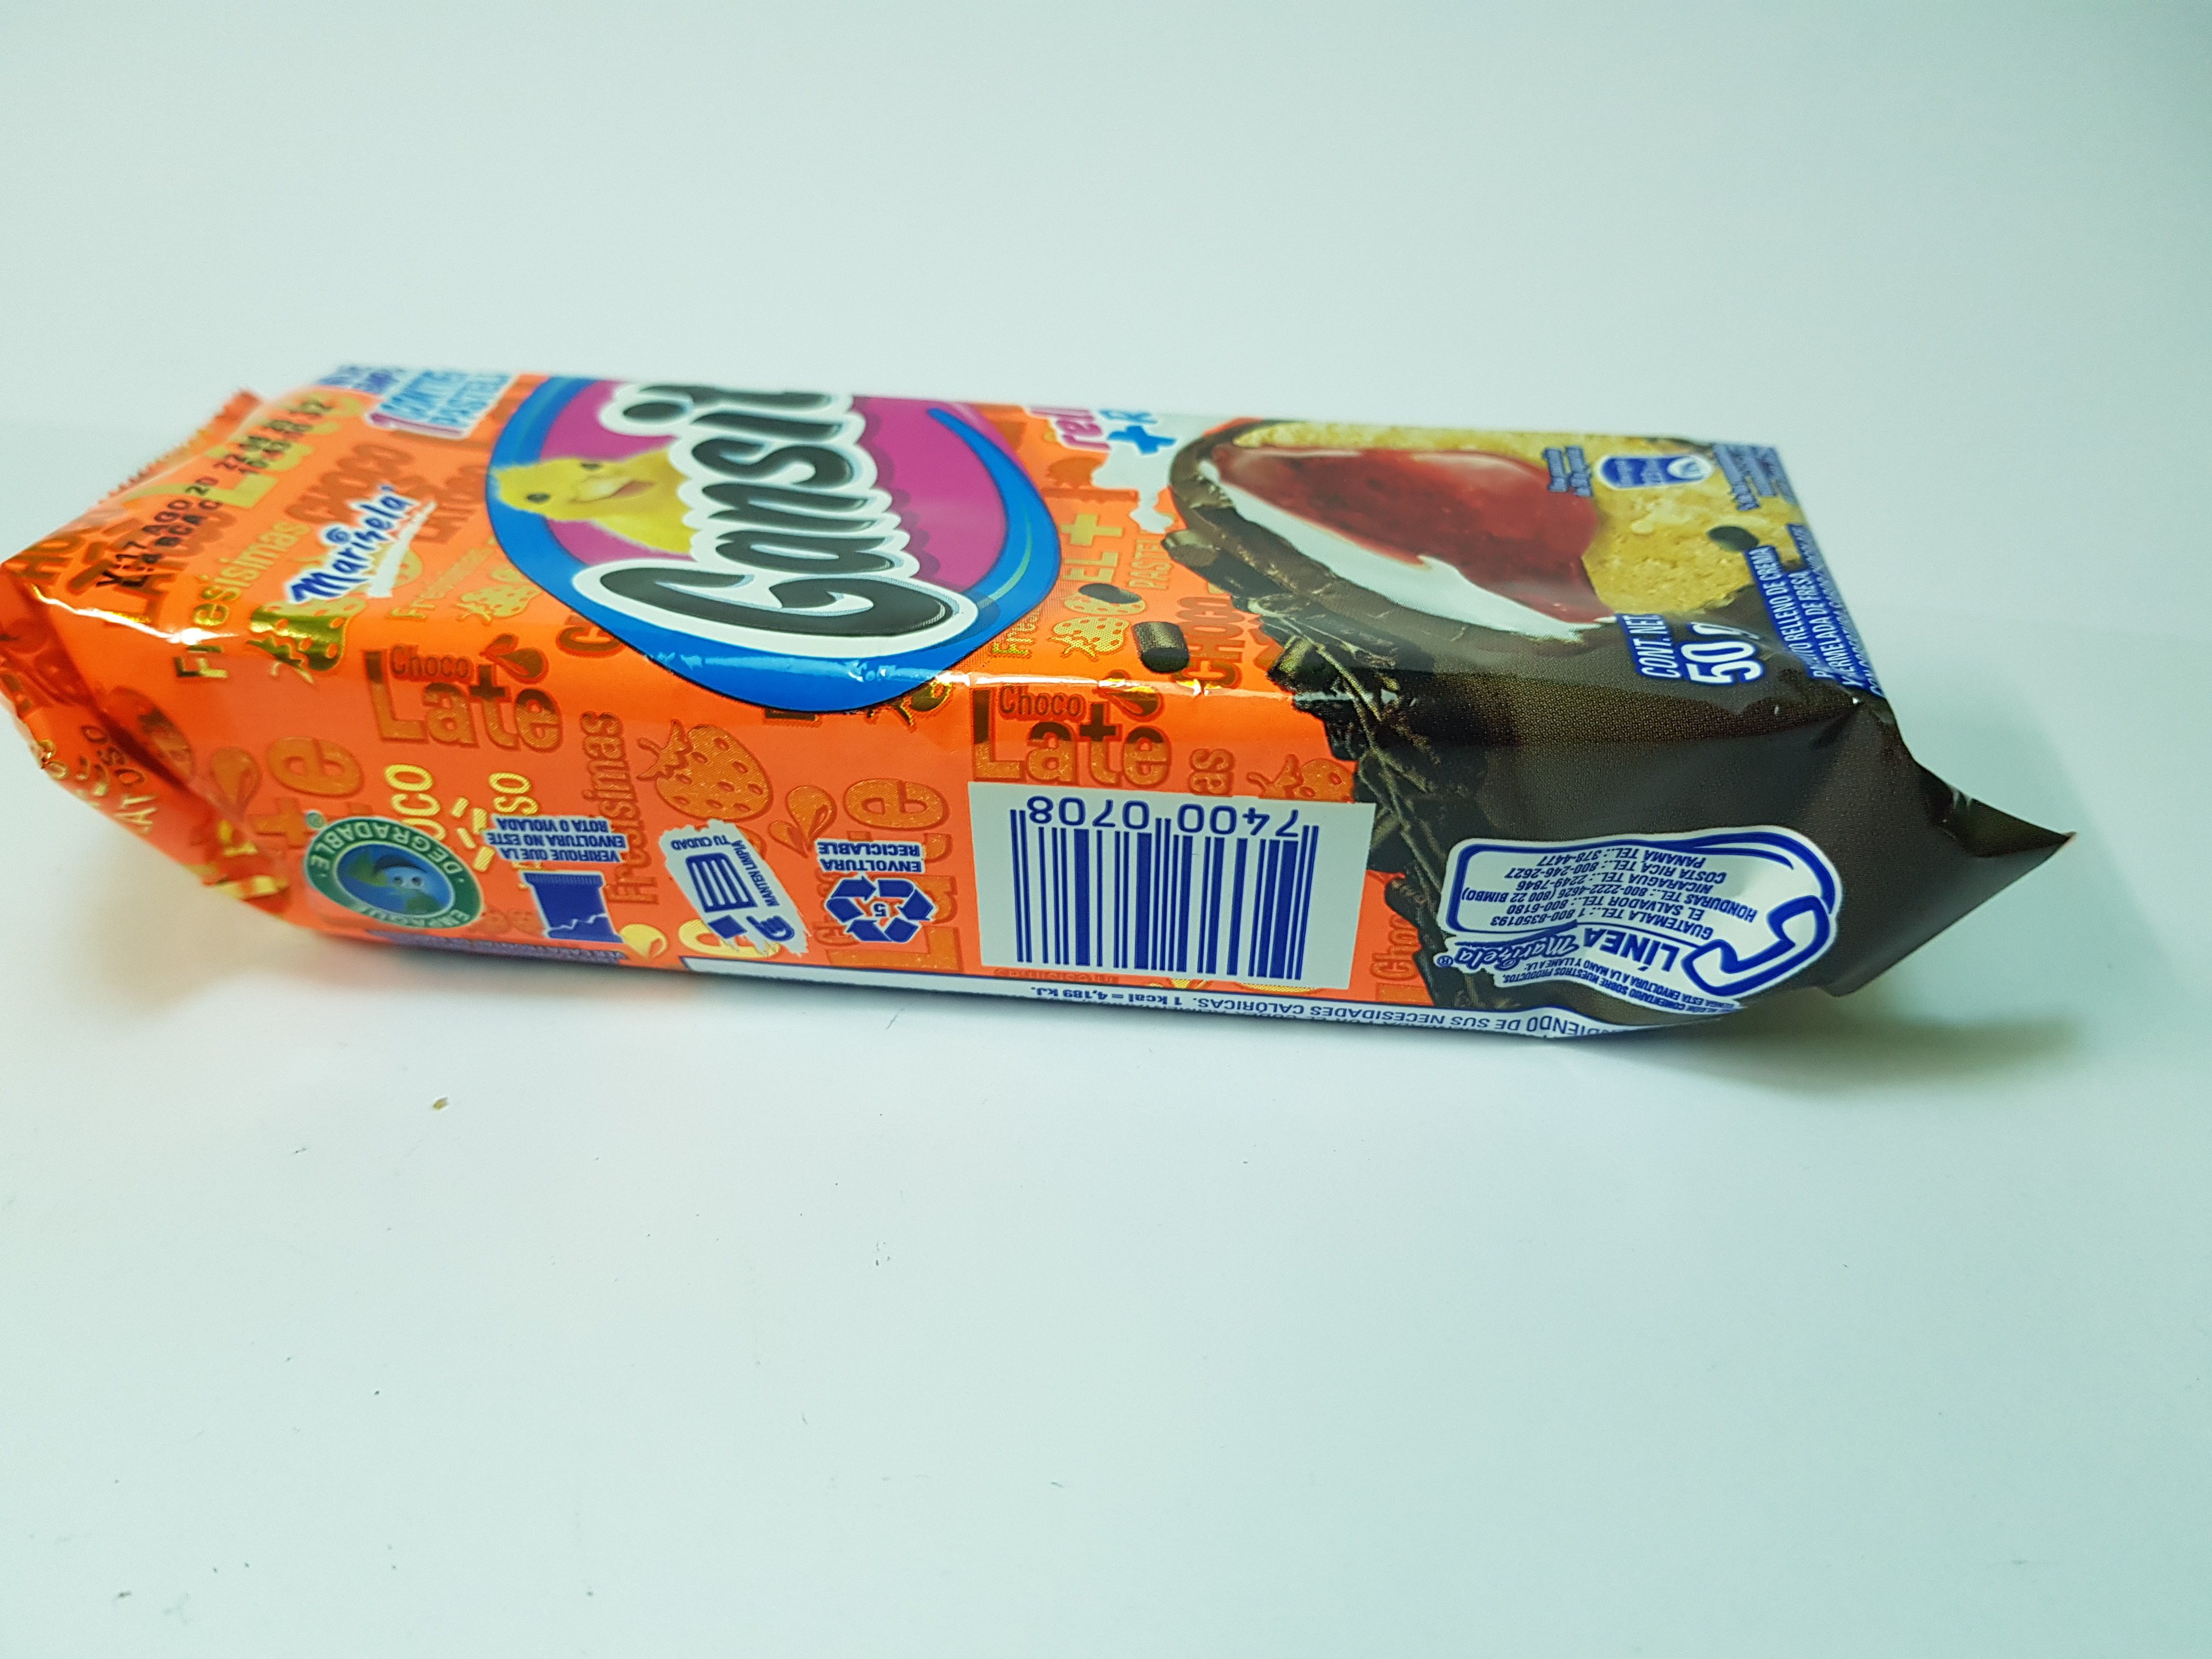gansito: (7, 317, 2109, 1080)
